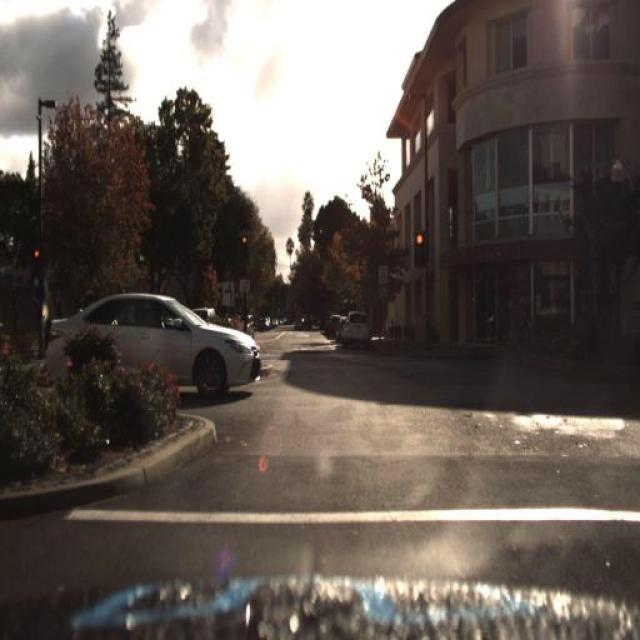car: (43, 290, 261, 399), (338, 304, 377, 348), (240, 314, 256, 337)
trafficLight: (515, 287, 530, 341), (519, 294, 530, 340)
trafficLight-Green: (30, 240, 42, 272)
trafficLight-RedLeft: (413, 227, 425, 268), (237, 230, 249, 269)
